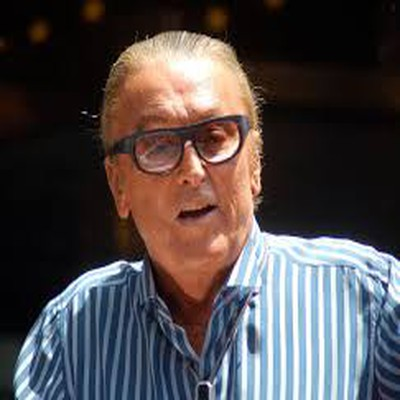eywear: (114, 101, 263, 185)
